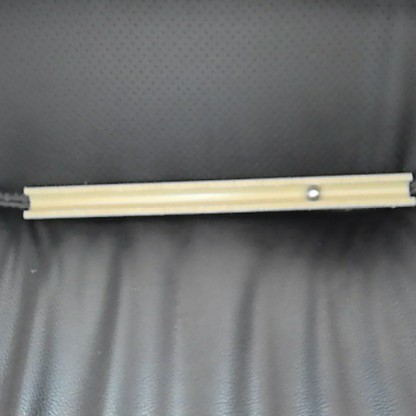ironball: (303, 182, 322, 201)
